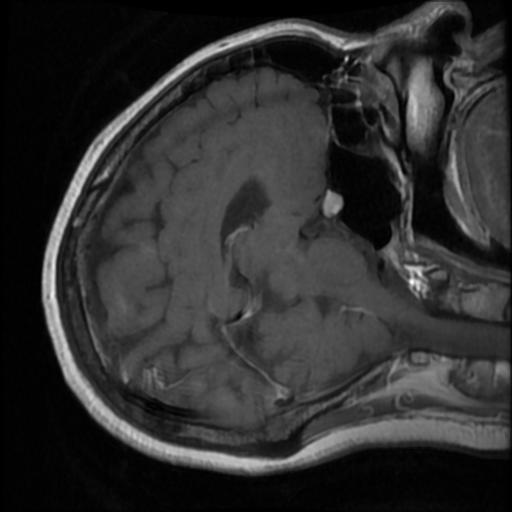pituitary tumour: (322, 189, 344, 218)
